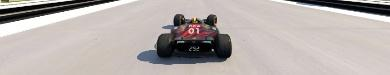Car: (155, 13, 232, 58)
